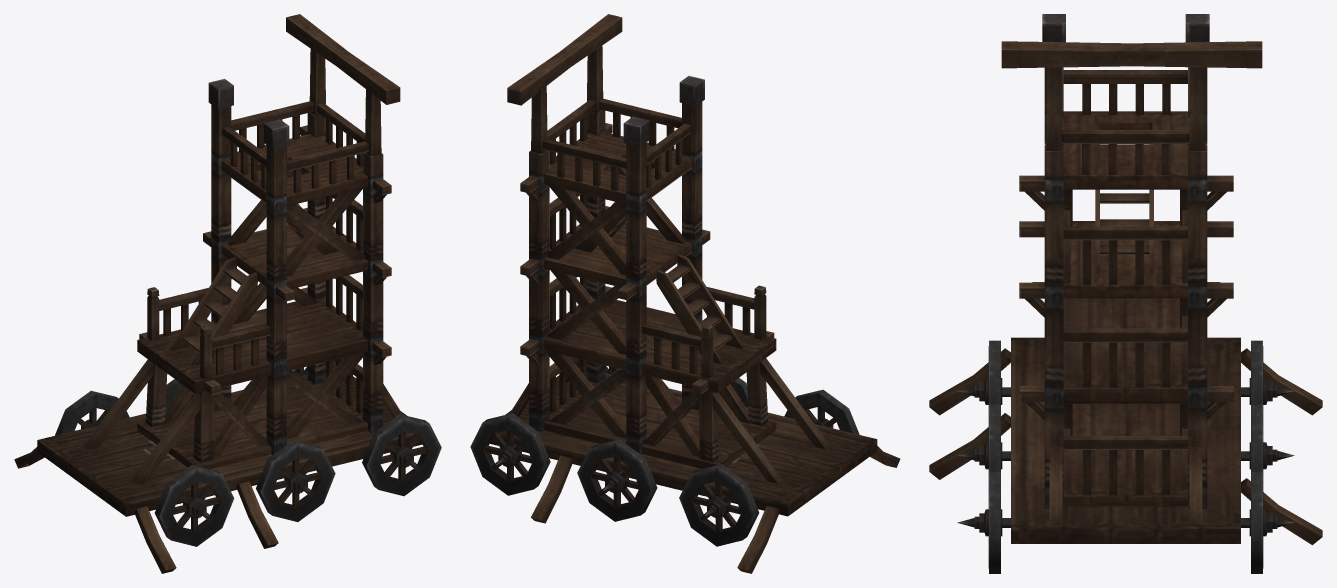
The model's file is s7_fight_dengchengche.FBX.
The picture shows the model from 3 angles, left to right: view 1: azimuth 30°, elevation 25°; view 2: azimuth 150°, elevation 25°; view 3: azimuth 270°, elevation 25°; orthographic projection. The views are drawn at different scales.
Parts seen in each view (by area): view 1: s7_fight_dengchengche; view 2: s7_fight_dengchengche; view 3: s7_fight_dengchengche.
Part boxes in pixels (x1,y1,x2,y2): s7_fight_dengchengche: [14, 14, 441, 573]; s7_fight_dengchengche: [470, 14, 900, 573]; s7_fight_dengchengche: [929, 14, 1322, 573].
Size of the model in its own units: 3806 by 4794 by 3257.
